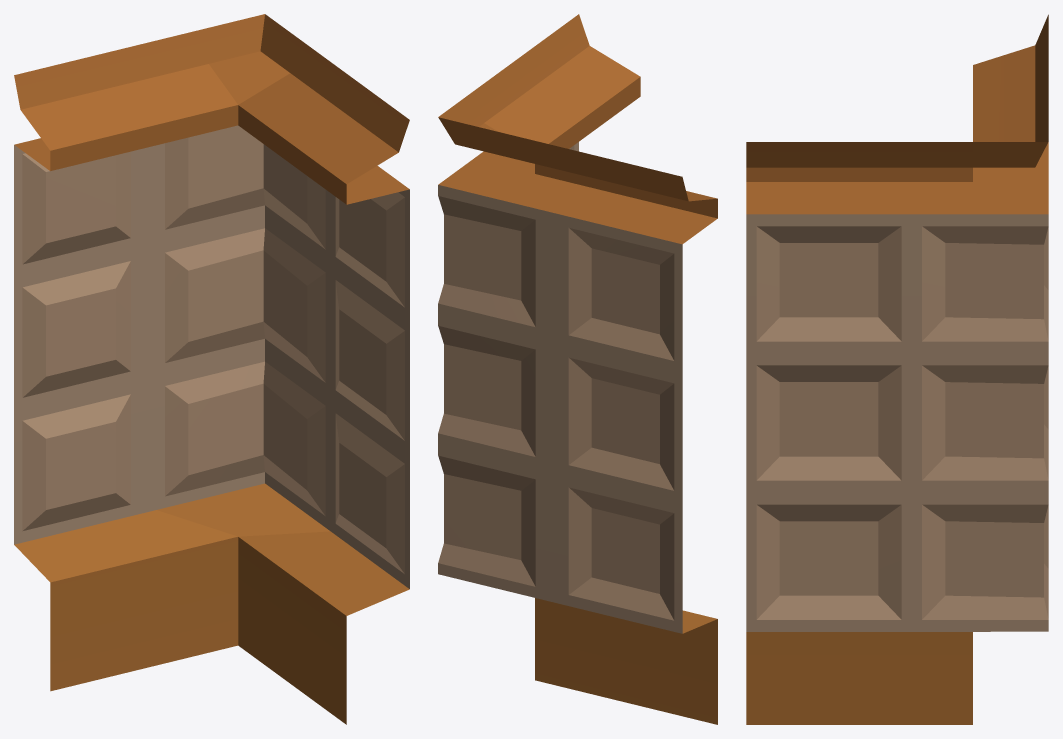
Rendered from corner_wall_bumb_outside_B.fbx.
The picture shows the model from 3 angles, left to right: view 1: azimuth 30°, elevation 25°; view 2: azimuth 150°, elevation 25°; view 3: azimuth 270°, elevation 25°; orthographic projection. The views are drawn at different scales.
Parts seen in each view (by area): view 1: corner_wall_bumb_outside_B; view 2: corner_wall_bumb_outside_B; view 3: corner_wall_bumb_outside_B.
Part boxes in pixels (x1,y1,x2,y2): corner_wall_bumb_outside_B: (14, 14, 409, 724); corner_wall_bumb_outside_B: (438, 14, 717, 724); corner_wall_bumb_outside_B: (746, 14, 1048, 724).
Size of the model in its own units: 134 by 300 by 133.
